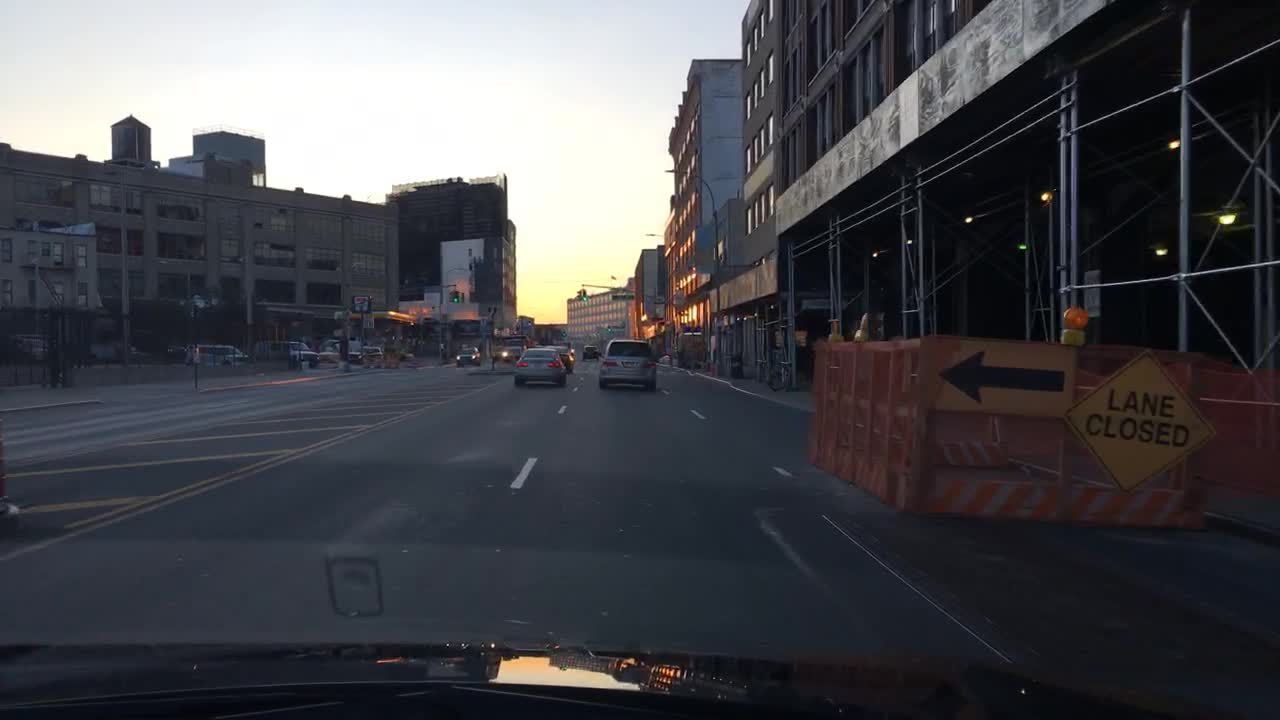bike: (762, 358, 791, 393)
car: (598, 337, 656, 389), (512, 346, 568, 387), (255, 338, 320, 368), (184, 343, 249, 367), (542, 343, 576, 374), (454, 343, 481, 367), (344, 337, 360, 362), (361, 344, 384, 361), (580, 344, 600, 361), (322, 337, 342, 352), (397, 348, 417, 361)
traffic light: (459, 289, 465, 304), (452, 289, 458, 301), (581, 288, 587, 300), (560, 327, 566, 338), (575, 288, 580, 301), (448, 289, 452, 301), (606, 322, 610, 331)
traffic sign: (1058, 348, 1217, 492), (916, 334, 1074, 414), (609, 293, 633, 300)
truck: (494, 334, 533, 362)
